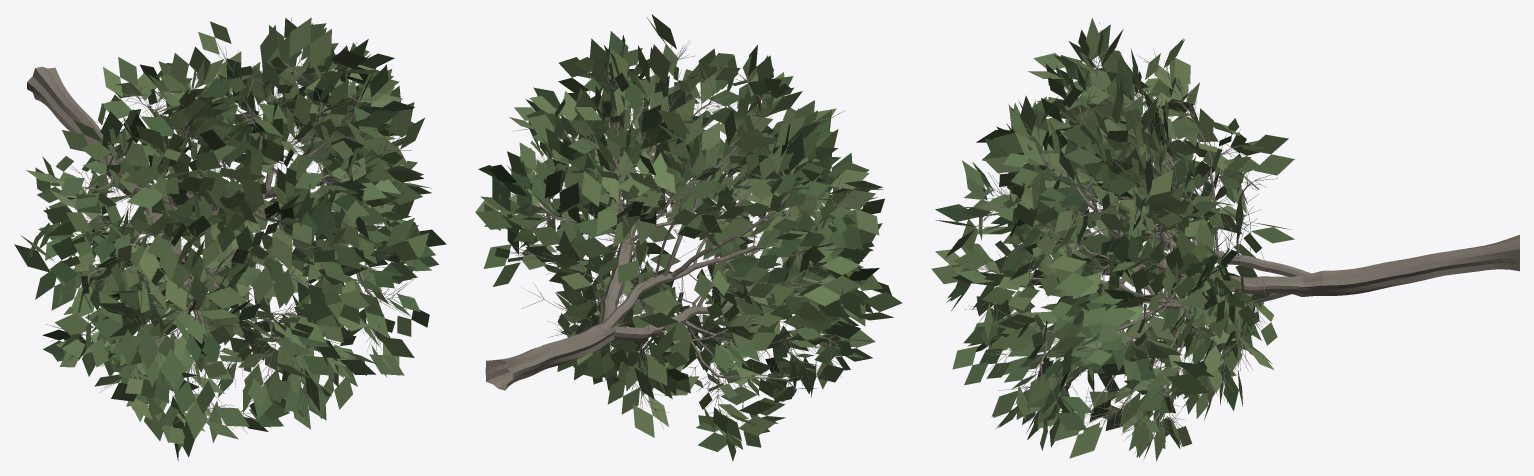
The model's file is tree_near_17.obj.
3 views of the same model, side by side, from view 1: azimuth 30°, elevation 25°; view 2: azimuth 150°, elevation 25°; view 3: azimuth 270°, elevation 25° (orthographic). The views are drawn at different scales.
Visible parts, largest first — view 1: tree_near_17; view 2: tree_near_17; view 3: tree_near_17.
Boxes of the visible parts, box(x1,y1,x2,y2) form: tree_near_17: box(14, 17, 446, 461); tree_near_17: box(475, 14, 902, 461); tree_near_17: box(931, 18, 1519, 461).
Size of the model in its own units: 0.7731 by 0.7853 by 0.994.
Materials: 1 (1 with a texture image).
